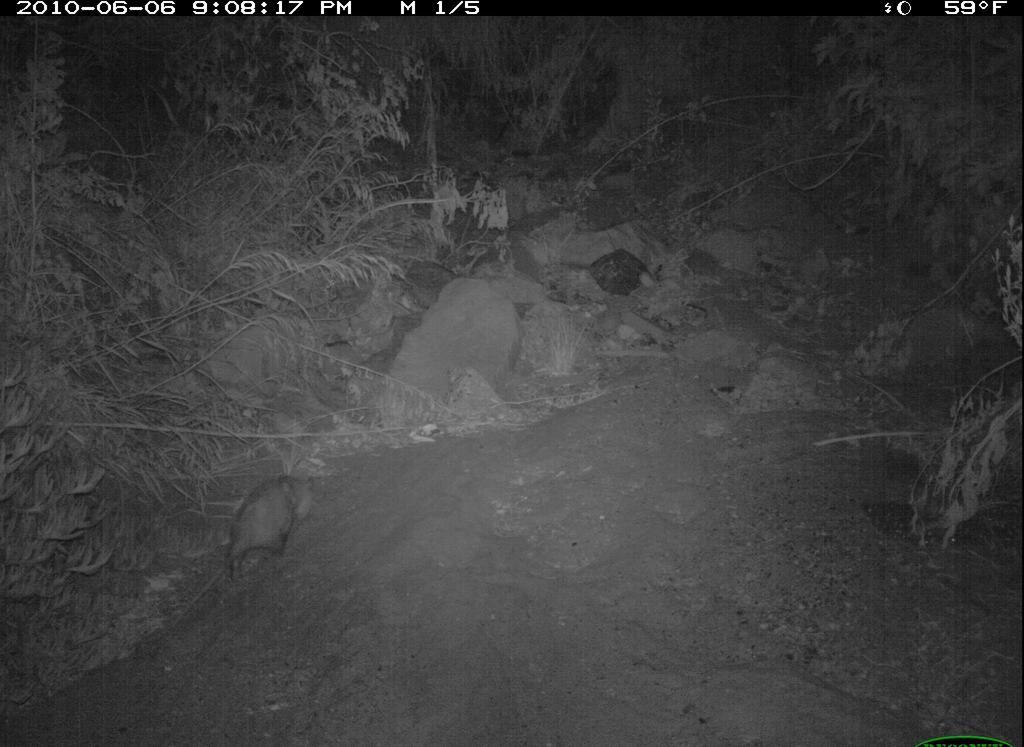opossum: (214, 466, 329, 585)
